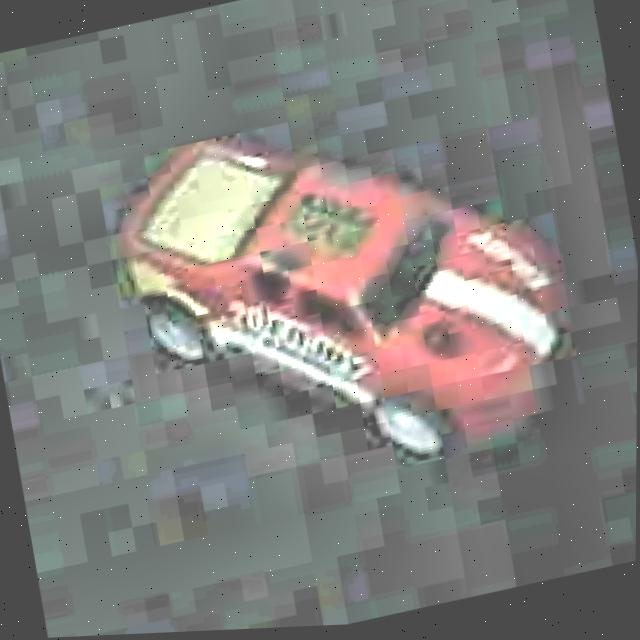car: (99, 55, 595, 526)
